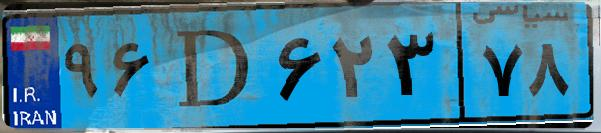2: (330, 28, 385, 110)
3: (385, 28, 445, 110)
6: (270, 28, 330, 110), (110, 28, 158, 98)
7: (475, 38, 525, 113)
8: (525, 38, 570, 115)
9: (57, 26, 110, 100)
D: (158, 12, 270, 120)
